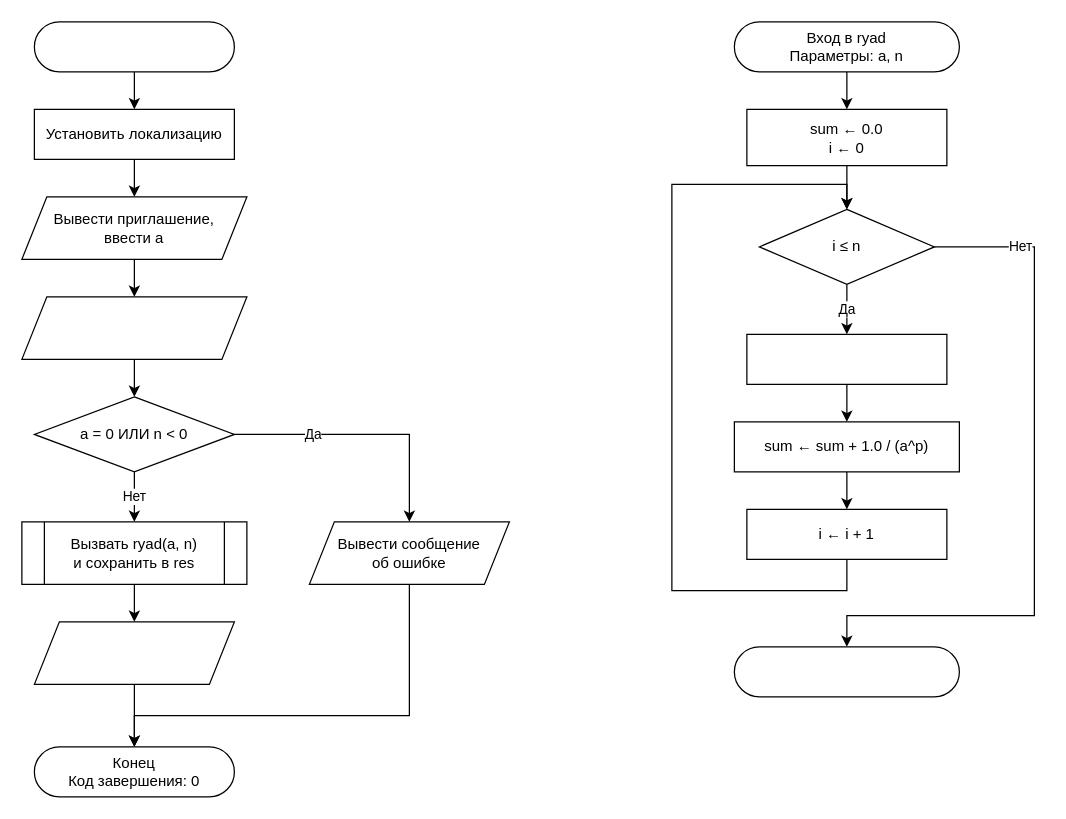
Some shapes in this 1066 by 819 pixel diagram are drawn without their labels. The shapes that lost their labels are listed below. From the top down, each one's centre as x and y in pixels, then its label:
At point (133, 46): "Начало".
At point (134, 327): "Вывести приглашение, ввести n".
At point (846, 358): "p ← 2^i".
At point (133, 652): "Вывести res".
At point (846, 671): "Возврат sum в место вызова функции".
